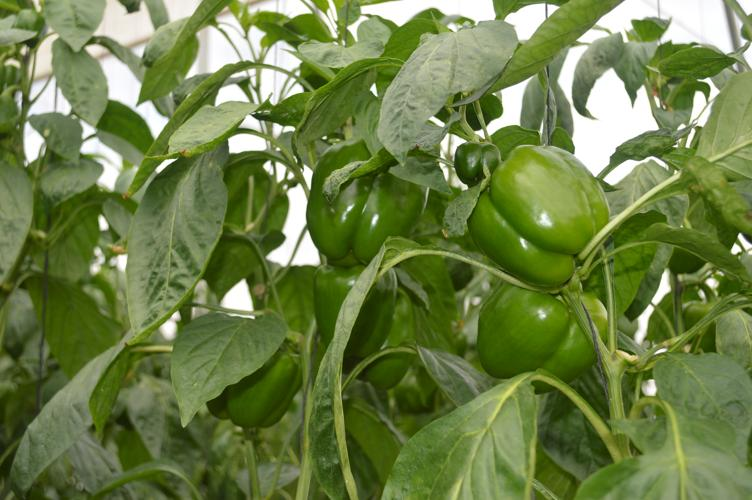BellPepper: (468, 143, 611, 287), (467, 284, 606, 386), (306, 141, 419, 258), (195, 338, 299, 429), (309, 264, 395, 353), (343, 290, 416, 387), (450, 141, 502, 182)
